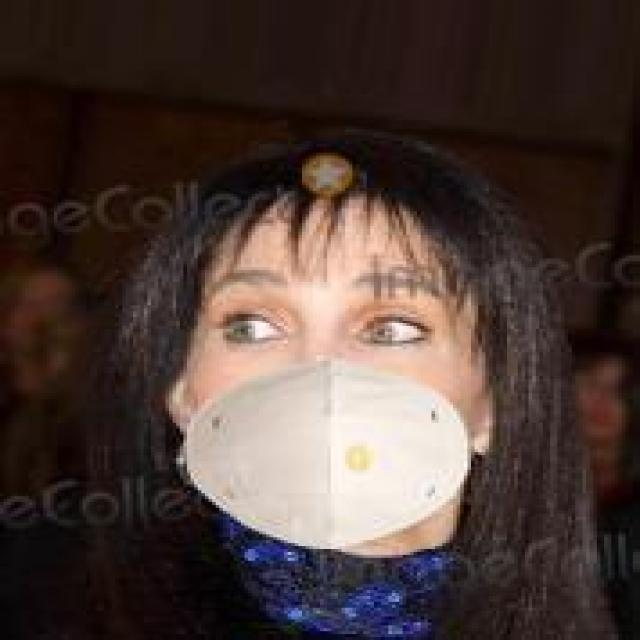mask: (151, 56, 565, 546)
